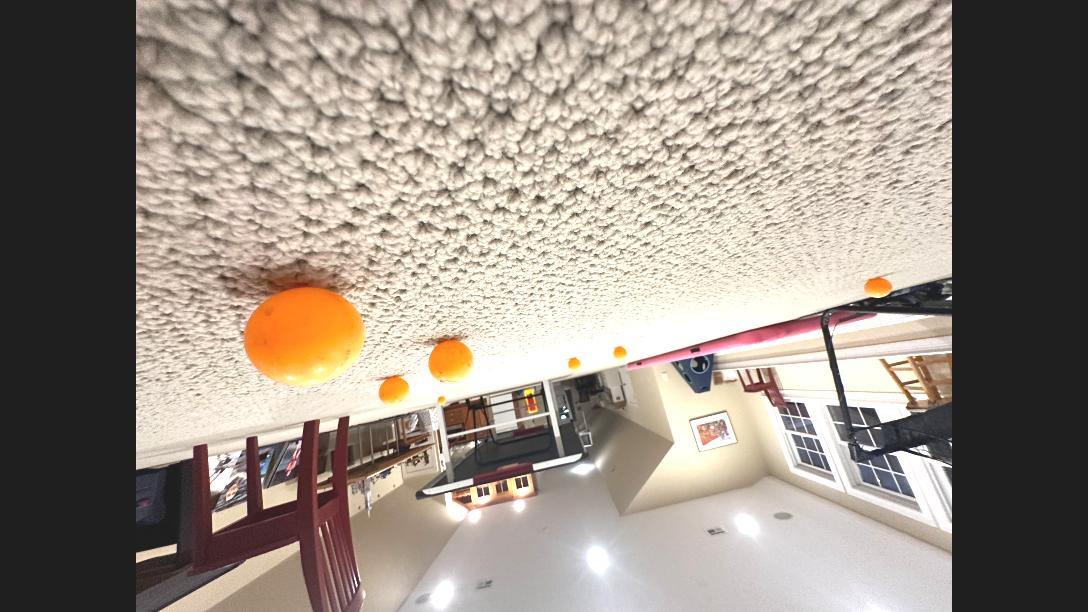Table-Tennis-Ball: (246, 290, 364, 388), (429, 340, 473, 384), (378, 378, 410, 406), (865, 278, 892, 298), (568, 358, 580, 371), (614, 348, 626, 360), (438, 396, 446, 406)
